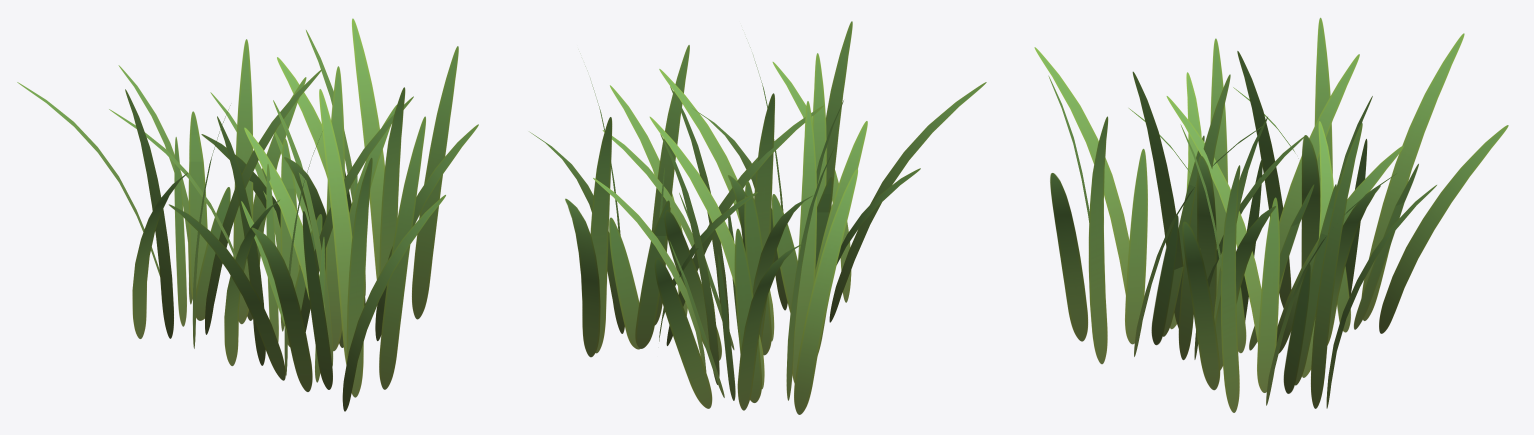
File: stylized_grass_bush_many.glb
3 renders of one model, left to right at view 1: azimuth 30°, elevation 25°; view 2: azimuth 150°, elevation 25°; view 3: azimuth 270°, elevation 25°, orthographic. The views are drawn at different scales.
Visible parts, largest first — view 1: Grass:Grass_low6_Grass:Grass_MAT_0.002, Grass:Grass_low6_Grass:Grass_MAT_0.003, Grass:Grass_low8_Grass:Grass_MAT_0.002, Grass:Grass_low11_Grass:Grass_MAT_0.002, Grass:Grass_low12_Grass:Grass_MAT_0.002, Grass:Grass_low8_Grass:Grass_MAT_0.003, Grass:Grass_low13_Grass:Grass_MAT_0.002, Grass:Grass_low10_Grass:Grass_MAT_0.002, Grass:Grass_low9_Grass:Grass_MAT_0.004, Grass:Grass_low11_Grass:Grass_MAT_0.003, Grass:Grass_low11_Grass:Grass_MAT_0.004, Grass:Grass_low9_Grass:Grass_MAT_0.001 (+27 smaller); view 2: Grass:Grass_low10_Grass:Grass_MAT_0.004, Grass:Grass_low6_Grass:Grass_MAT_0.004, Grass:Grass_low13_Grass:Grass_MAT_0.004, Grass:Grass_low9_Grass:Grass_MAT_0.003, Grass:Grass_low7_Grass:Grass_MAT_0.003, Grass:Grass_low12_Grass:Grass_MAT_0.004, Grass:Grass_low12_Grass:Grass_MAT_0.002, Grass:Grass_Master3_Grass:Grass_MAT_0.003, Grass:Grass_low11_Grass:Grass_MAT_0.003, Grass:Grass_Master2_Grass:Grass_MAT_0.003, Grass:Grass_low9_Grass:Grass_MAT_0.002, Grass:Grass_low8_Grass:Grass_MAT_0.004 (+24 smaller); view 3: Grass:Grass_low9_Grass:Grass_MAT_0.003, Grass:Grass_low12_Grass:Grass_MAT_0.004, Grass:Grass_low13_Grass:Grass_MAT_0.004, Grass:Grass_low6_Grass:Grass_MAT_0.002, Grass:Grass_low6_Grass:Grass_MAT_0.003, Grass:Grass_low10_Grass:Grass_MAT_0.003, Grass:Grass_low10_Grass:Grass_MAT_0.002, Grass:Grass_Master1_Grass:Grass_MAT_0.002, Grass:Grass_Master1_Grass:Grass_MAT_0.003, Grass:Grass_low12_Grass:Grass_MAT_0.002, Grass:Grass_low6_Grass:Grass_MAT_0.001, Grass:Grass_low12_Grass:Grass_MAT_0.001 (+27 smaller).
Boxes of the visible parts, x1,y1,x2,y2 form: Grass:Grass_low6_Grass:Grass_MAT_0.002: [379, 116, 425, 389]; Grass:Grass_low6_Grass:Grass_MAT_0.003: [412, 46, 458, 319]; Grass:Grass_low8_Grass:Grass_MAT_0.002: [319, 89, 352, 364]; Grass:Grass_low11_Grass:Grass_MAT_0.002: [346, 157, 372, 397]; Grass:Grass_low12_Grass:Grass_MAT_0.002: [251, 227, 312, 391]; Grass:Grass_low8_Grass:Grass_MAT_0.003: [352, 18, 384, 279]; Grass:Grass_low13_Grass:Grass_MAT_0.002: [168, 204, 285, 380]; Grass:Grass_low10_Grass:Grass_MAT_0.002: [342, 195, 445, 411]; Grass:Grass_low9_Grass:Grass_MAT_0.004: [233, 39, 253, 324]; Grass:Grass_low11_Grass:Grass_MAT_0.003: [379, 87, 405, 274]; Grass:Grass_low11_Grass:Grass_MAT_0.004: [125, 89, 173, 338]; Grass:Grass_low9_Grass:Grass_MAT_0.001: [325, 66, 344, 351]; Grass:Grass_low10_Grass:Grass_MAT_0.004: [794, 168, 857, 414]; Grass:Grass_low6_Grass:Grass_MAT_0.004: [792, 101, 816, 383]; Grass:Grass_low13_Grass:Grass_MAT_0.004: [654, 257, 712, 408]; Grass:Grass_low9_Grass:Grass_MAT_0.003: [590, 117, 612, 353]; Grass:Grass_low7_Grass:Grass_MAT_0.003: [565, 198, 600, 357]; Grass:Grass_low12_Grass:Grass_MAT_0.004: [737, 243, 803, 410]; Grass:Grass_low12_Grass:Grass_MAT_0.002: [829, 82, 986, 322]; Grass:Grass_Master3_Grass:Grass_MAT_0.003: [635, 200, 669, 348]; Grass:Grass_low11_Grass:Grass_MAT_0.003: [652, 45, 689, 325]; Grass:Grass_Master2_Grass:Grass_MAT_0.003: [609, 217, 640, 349]; Grass:Grass_low9_Grass:Grass_MAT_0.002: [754, 93, 774, 248]; Grass:Grass_low8_Grass:Grass_MAT_0.004: [649, 116, 764, 389]; Grass:Grass_low9_Grass:Grass_MAT_0.003: [1311, 123, 1362, 408]; Grass:Grass_low12_Grass:Grass_MAT_0.004: [1361, 33, 1464, 320]; Grass:Grass_low13_Grass:Grass_MAT_0.004: [1379, 125, 1508, 333]; Grass:Grass_low6_Grass:Grass_MAT_0.002: [1088, 116, 1108, 364]; Grass:Grass_low6_Grass:Grass_MAT_0.003: [1220, 165, 1240, 412]; Grass:Grass_low10_Grass:Grass_MAT_0.003: [1182, 221, 1220, 390]; Grass:Grass_low10_Grass:Grass_MAT_0.002: [1050, 173, 1088, 341]; Grass:Grass_Master1_Grass:Grass_MAT_0.002: [1125, 148, 1147, 344]; Grass:Grass_Master1_Grass:Grass_MAT_0.003: [1257, 197, 1279, 392]; Grass:Grass_low12_Grass:Grass_MAT_0.002: [1034, 47, 1129, 294]; Grass:Grass_low6_Grass:Grass_MAT_0.001: [1132, 71, 1183, 328]; Grass:Grass_low12_Grass:Grass_MAT_0.001: [1279, 54, 1359, 292].
Bounding box in the file's own units: 0.4565 × 0.338 × 0.545.
Materials: 8 (8 with a texture image).
